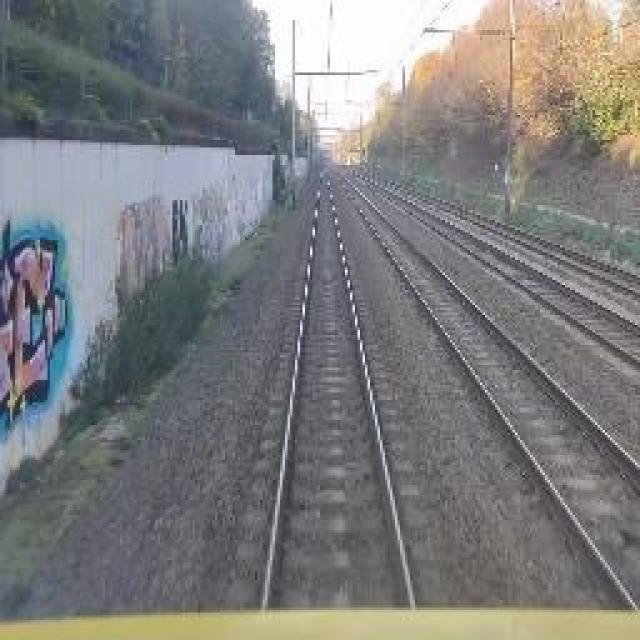rail: (320, 162, 640, 612), (235, 163, 446, 610)
